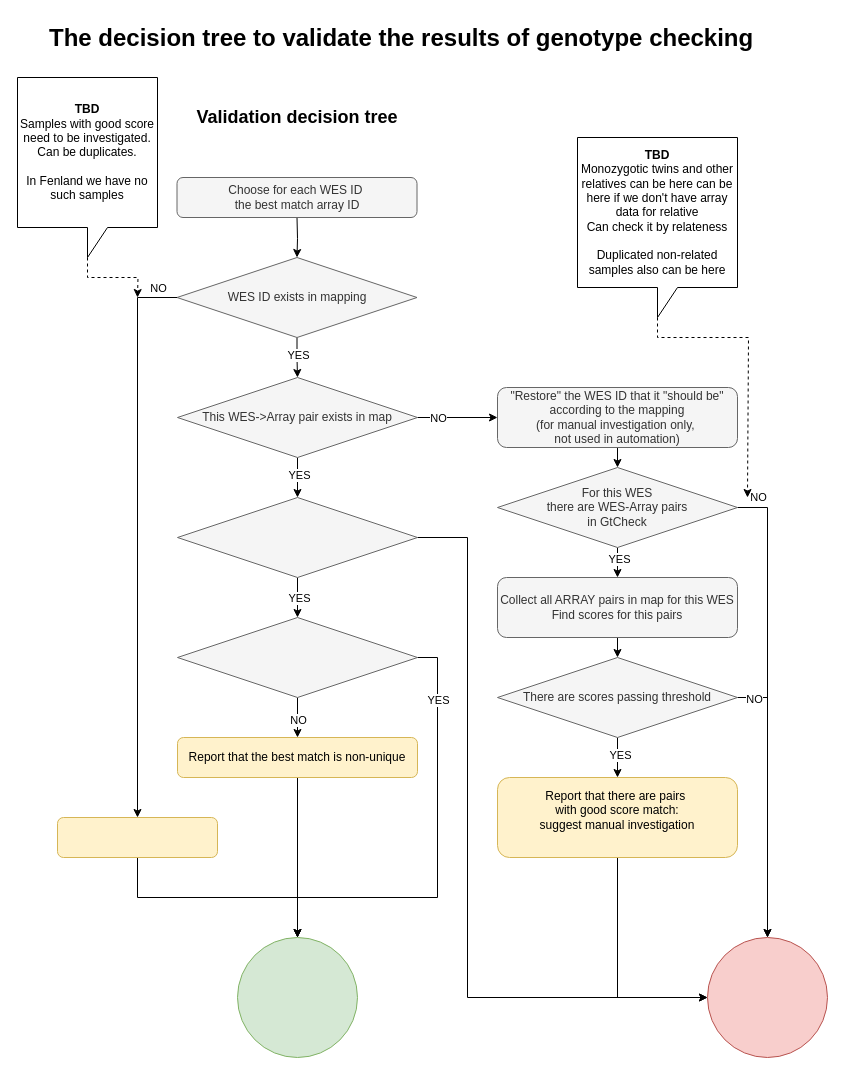
This 845x1075 diagram has some shape labels left out. The centre of each missing label's shape, as x and y in pixels:
FAIL: the point at 767,997
PASS: the point at 297,997
Report not-present IDs: the point at 137,837
Score passes threshold: the point at 297,537
WES->Array mapping is unique: the point at 297,657
